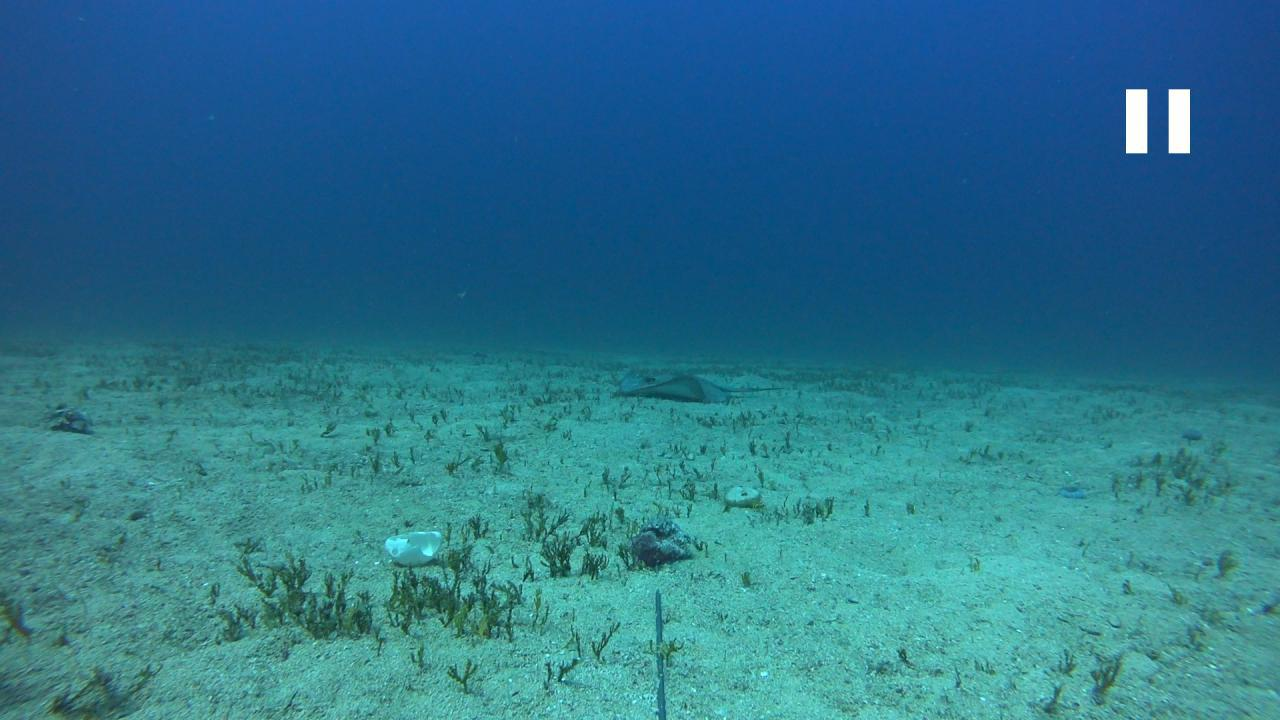dasyatis: (618, 371, 784, 404)
